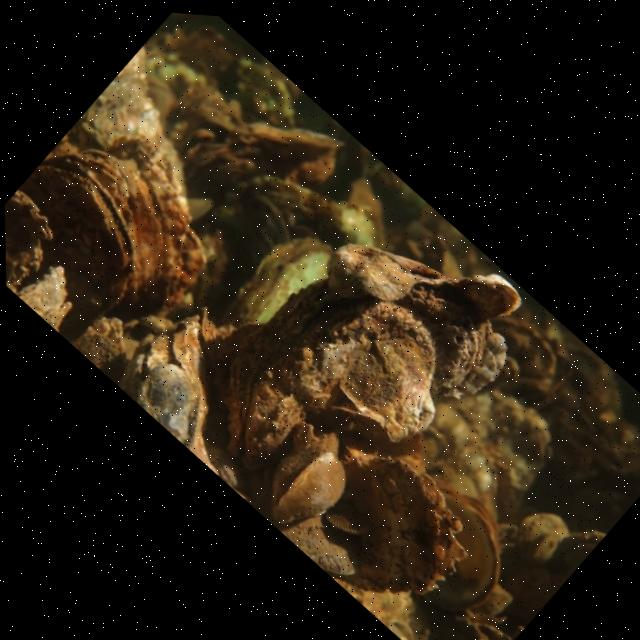Oyster-Closed: (224, 245, 528, 471), (24, 150, 139, 338), (339, 441, 473, 602), (119, 311, 221, 478), (264, 434, 341, 525), (282, 515, 359, 572)
Oyster-Indeterminate: (196, 169, 380, 316), (73, 46, 191, 202), (111, 129, 206, 318), (222, 229, 339, 323), (237, 111, 350, 173), (498, 314, 564, 399), (511, 503, 575, 565), (550, 532, 605, 575), (323, 505, 369, 535)
